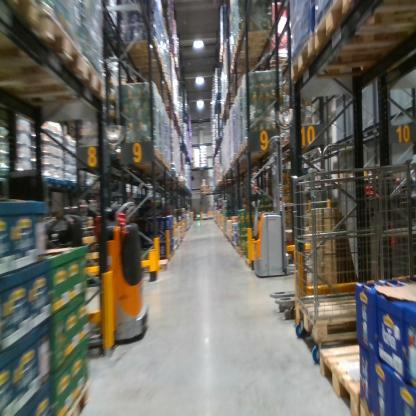pallet: (287, 36, 409, 88), (1, 53, 113, 108), (305, 4, 415, 55), (3, 13, 82, 82), (317, 333, 378, 411), (298, 292, 386, 338), (228, 20, 274, 48), (3, 2, 41, 25), (117, 39, 161, 57), (262, 52, 288, 70), (362, 396, 385, 416), (40, 173, 64, 188), (152, 257, 168, 272)
pallet_truck: (76, 184, 150, 345), (245, 122, 301, 280)
